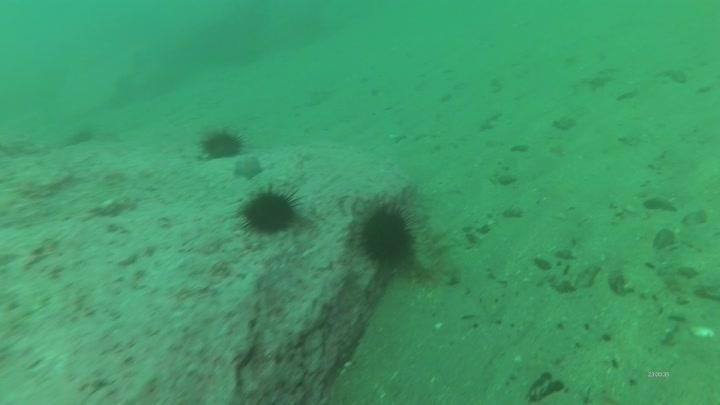echinus: (353, 198, 420, 272), (237, 184, 302, 238), (198, 126, 246, 162)
holothurian: (409, 213, 461, 287)
starfish: (231, 154, 265, 182)
